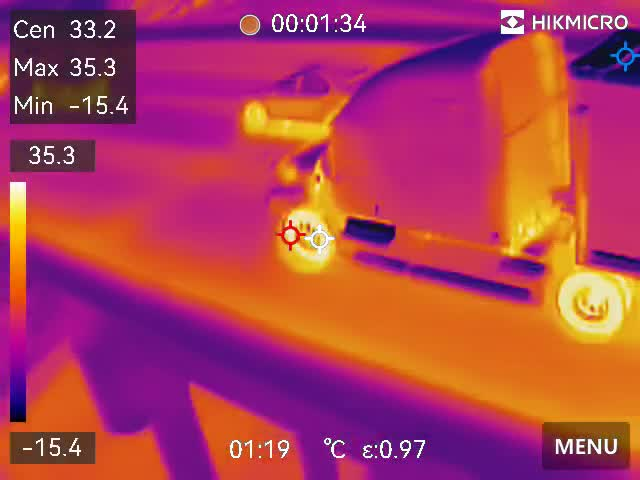heavyTruck: (266, 24, 640, 338)
largeCar: (225, 63, 358, 132)
